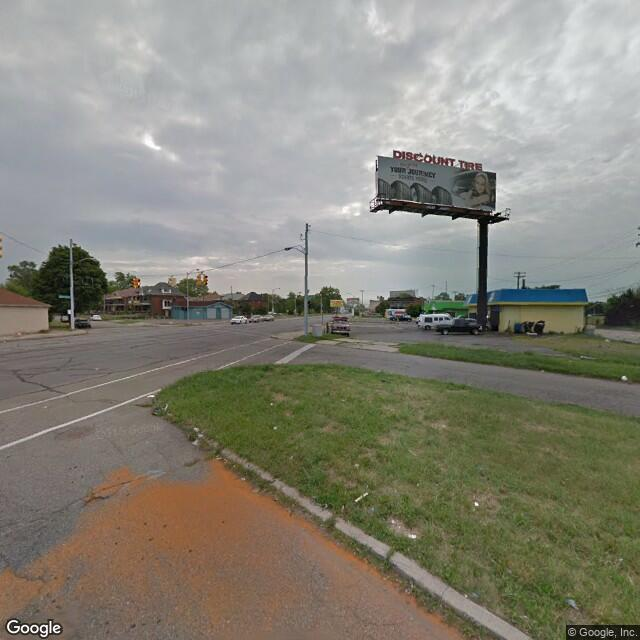litter: (399, 528, 422, 545), (349, 489, 371, 506), (265, 419, 283, 432), (467, 498, 484, 510), (143, 390, 159, 400), (618, 371, 630, 384)
